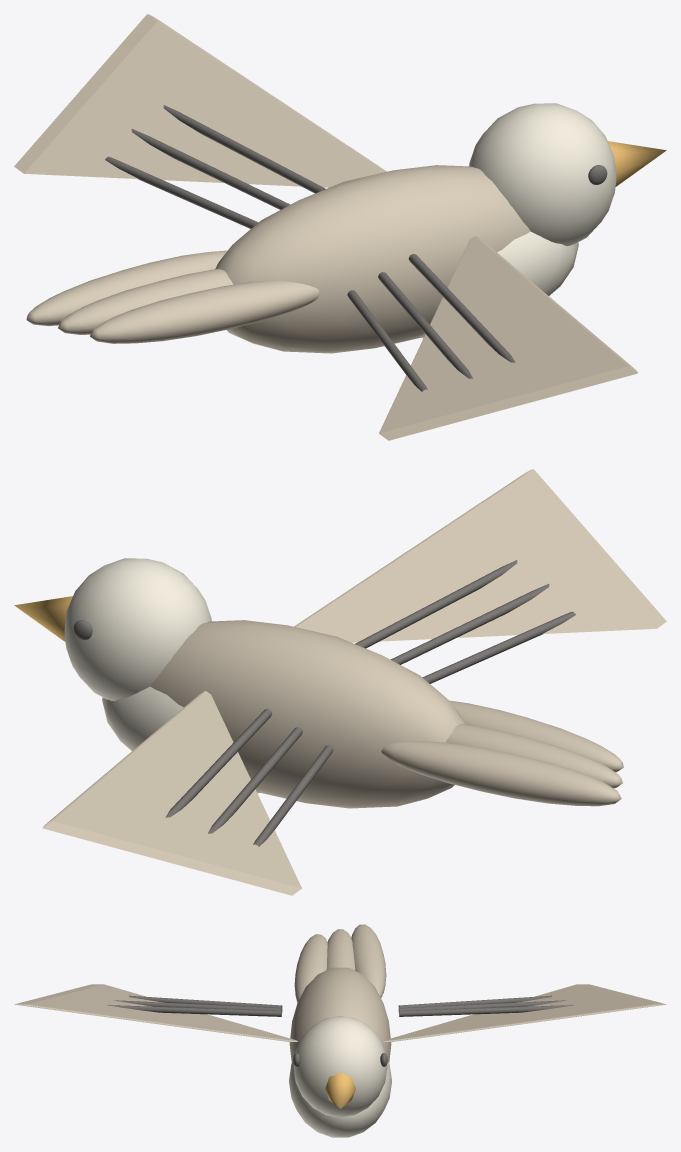
Rendered from bird.glb.
3 renders of one model, top to bottom at view 1: azimuth 30°, elevation 25°; view 2: azimuth 150°, elevation 25°; view 3: azimuth 270°, elevation 25°, orthographic. The views are drawn at different scales.
Parts seen in each view (by area): view 1: Body, LeftWingSurface, RightWingSurface, Head, TailFeather0, TailFeather2, TailFeather1, Breast, LeftWingFeatherLine0, LeftWingFeatherLine1, LeftWingFeatherLine2, RightWingFeatherLine0 (+3 smaller); view 2: Body, RightWingSurface, LeftWingSurface, Head, TailFeather2, TailFeather1, TailFeather0, Breast, RightWingFeatherLine0, RightWingFeatherLine1, RightWingFeatherLine2, LeftWingFeatherLine0 (+3 smaller); view 3: Head, Body, LeftWingSurface, RightWingSurface, Breast, TailFeather2, TailFeather0, LeftWingFeatherLine0, RightWingFeatherLine0, TailFeather1, Beak, LeftWingFeatherLine1 (+3 smaller).
Boxes of the visible parts, x1,y1,x2,y2 form: Body: (215, 165, 530, 353); LeftWingSurface: (14, 14, 386, 187); RightWingSurface: (379, 236, 637, 440); Head: (469, 103, 616, 246); TailFeather0: (90, 280, 319, 343); TailFeather2: (26, 250, 227, 326); TailFeather1: (58, 269, 233, 334); Breast: (420, 231, 578, 338); LeftWingFeatherLine0: (163, 105, 325, 193); LeftWingFeatherLine1: (131, 129, 290, 209); LeftWingFeatherLine2: (105, 156, 258, 228); RightWingFeatherLine0: (408, 254, 515, 362); Body: (150, 620, 465, 808); RightWingSurface: (294, 469, 666, 642); LeftWingSurface: (43, 691, 301, 895); Head: (64, 558, 211, 701); TailFeather2: (381, 740, 621, 806); TailFeather1: (446, 724, 622, 788); TailFeather0: (449, 700, 623, 772); Breast: (102, 686, 260, 793); RightWingFeatherLine0: (355, 560, 517, 648); RightWingFeatherLine1: (390, 584, 549, 664); RightWingFeatherLine2: (422, 611, 575, 683); LeftWingFeatherLine0: (165, 709, 272, 817); Head: (293, 1016, 387, 1117); Body: (289, 967, 391, 1062); LeftWingSurface: (383, 984, 666, 1041); RightWingSurface: (14, 984, 297, 1041); Breast: (289, 1062, 391, 1137); TailFeather2: (351, 924, 386, 997); TailFeather0: (294, 934, 327, 1002); LeftWingFeatherLine0: (399, 1005, 573, 1016); RightWingFeatherLine0: (107, 1005, 281, 1016); TailFeather1: (326, 929, 355, 970); Beak: (325, 1072, 355, 1108); LeftWingFeatherLine1: (398, 1000, 566, 1011).
Size of the model in its own units: 1.22 by 0.37 by 1.67.
